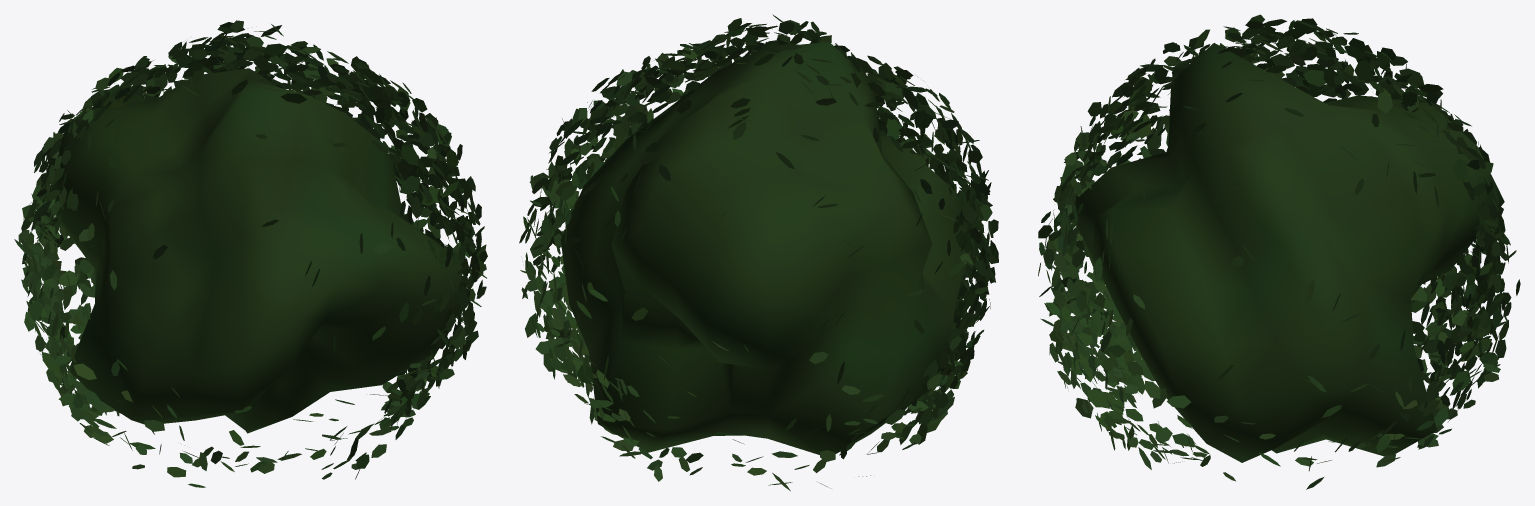
Rendered from SM_Tree_garden_shrub_4.glb.
3 views of the same model, side by side, from view 1: azimuth 30°, elevation 25°; view 2: azimuth 150°, elevation 25°; view 3: azimuth 270°, elevation 25° (orthographic).
Parts seen in each view (by area): view 1: SM_Tree_garden_shrub_4; view 2: SM_Tree_garden_shrub_4; view 3: SM_Tree_garden_shrub_4.
Part boxes in pixels (x1=…): SM_Tree_garden_shrub_4: x1=14, y1=20, x2=487, y2=487; SM_Tree_garden_shrub_4: x1=519, y1=14, x2=998, y2=491; SM_Tree_garden_shrub_4: x1=1038, y1=14, x2=1520, y2=489.
Bounding box in the file's own units: 0.8908 × 0.807 × 0.9044.
